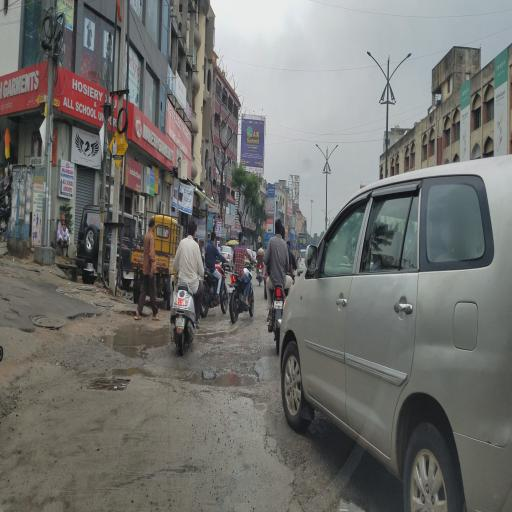street_light_0: (386, 45, 419, 101), (354, 47, 386, 104), (326, 140, 350, 170), (302, 138, 326, 168)
